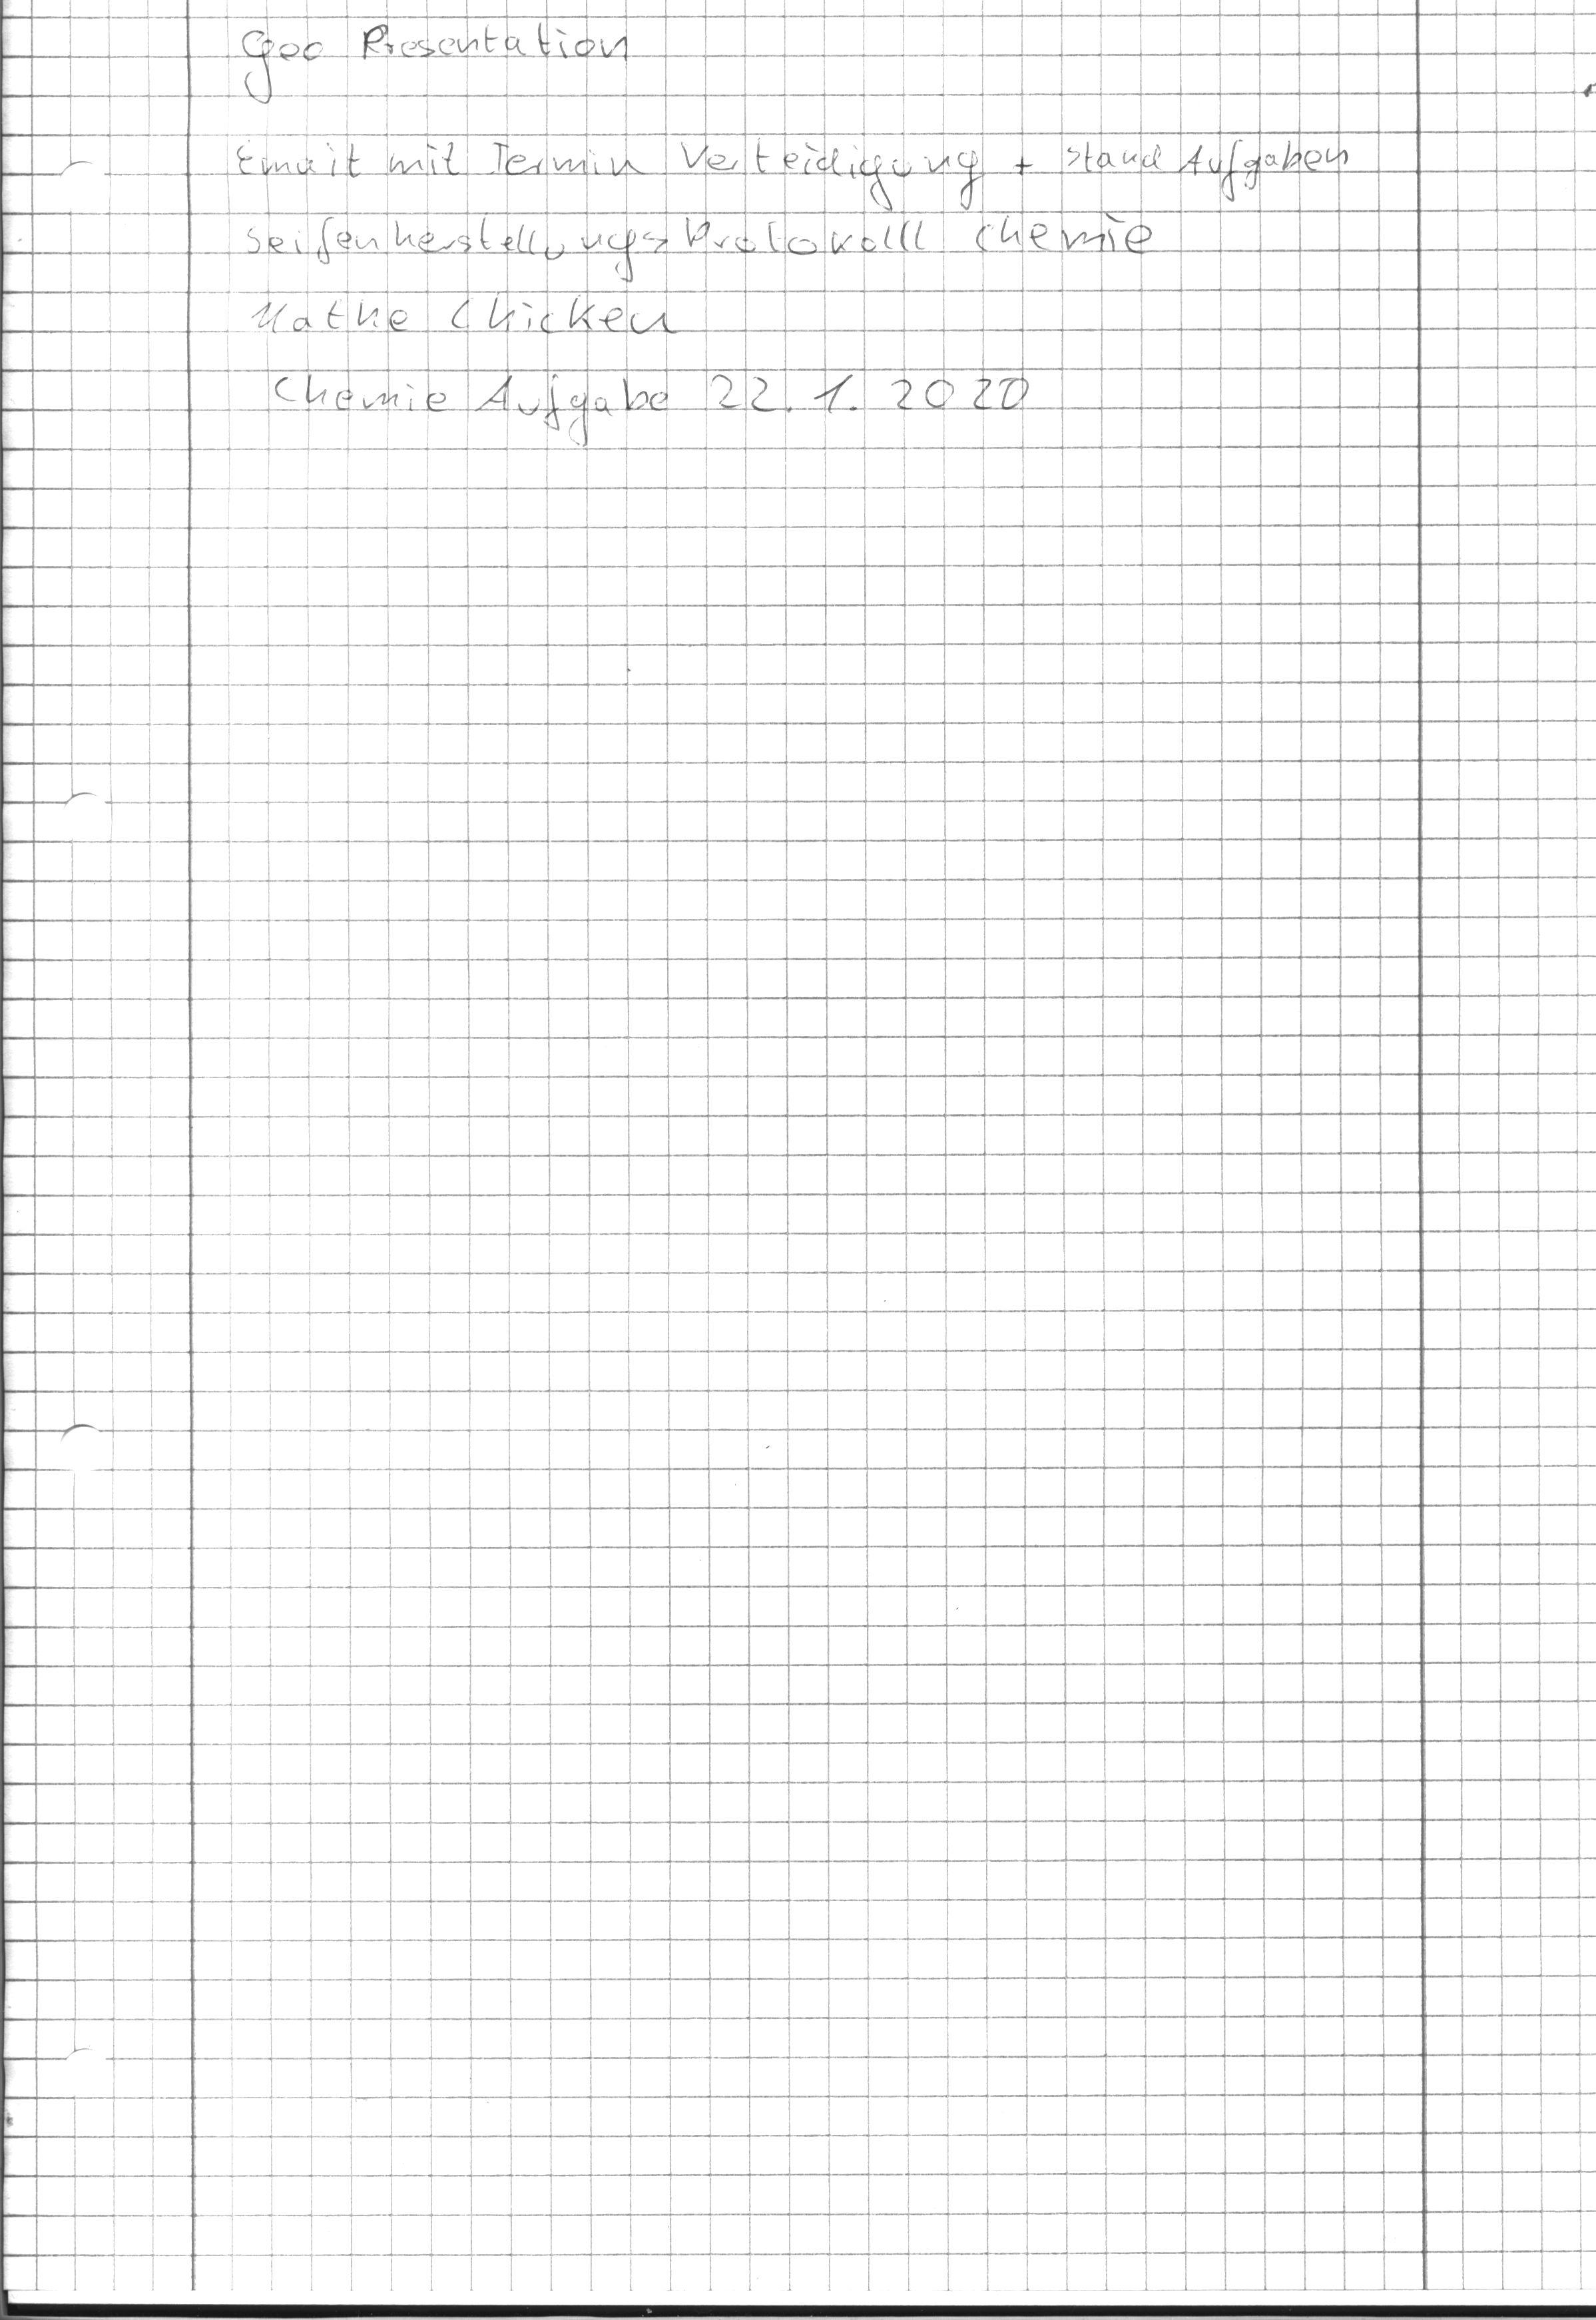word: (231, 132, 1356, 457), (231, 15, 640, 111)
